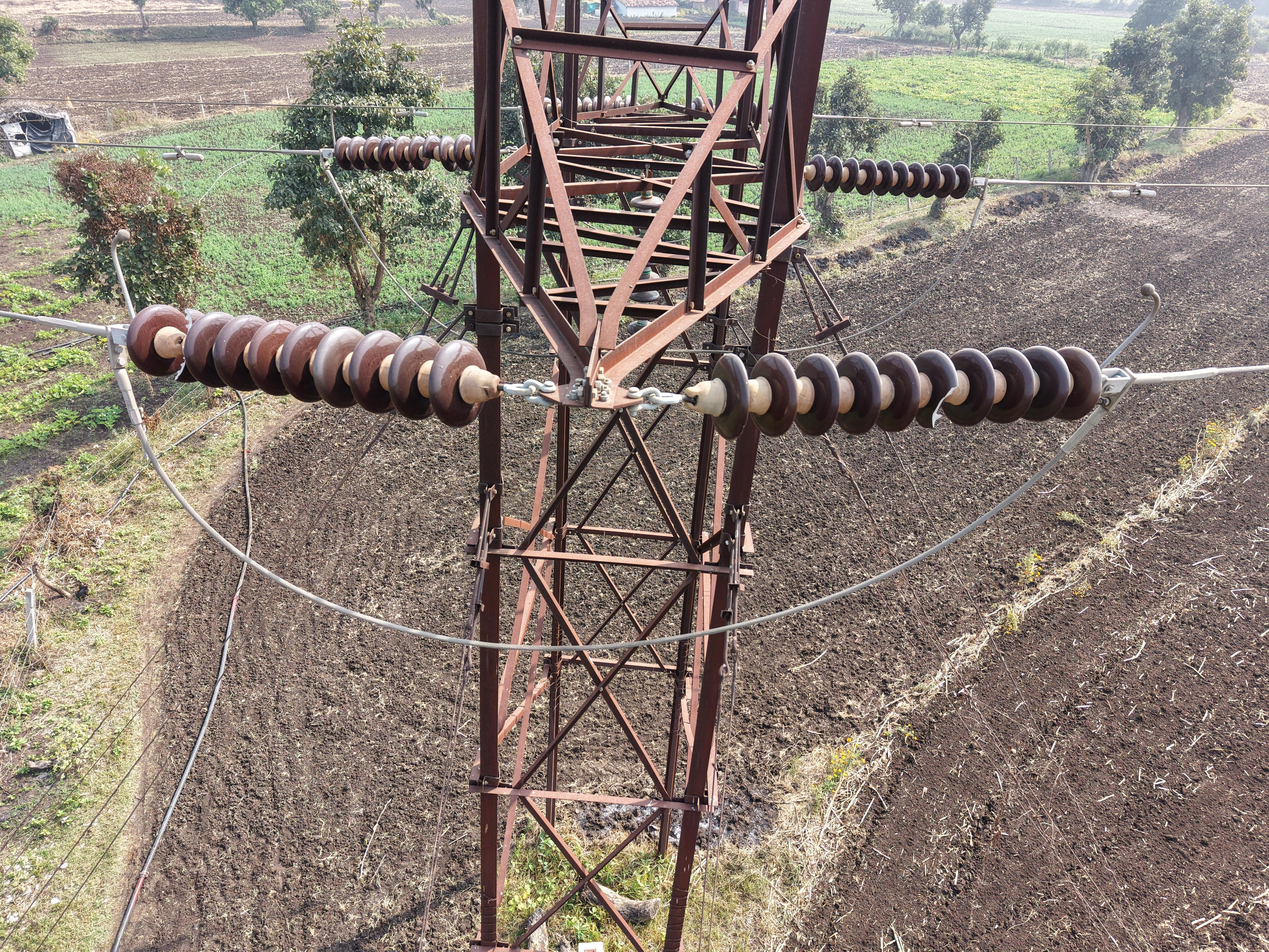broken_insulator: (919, 341, 963, 434), (169, 305, 201, 387), (422, 135, 440, 171)
